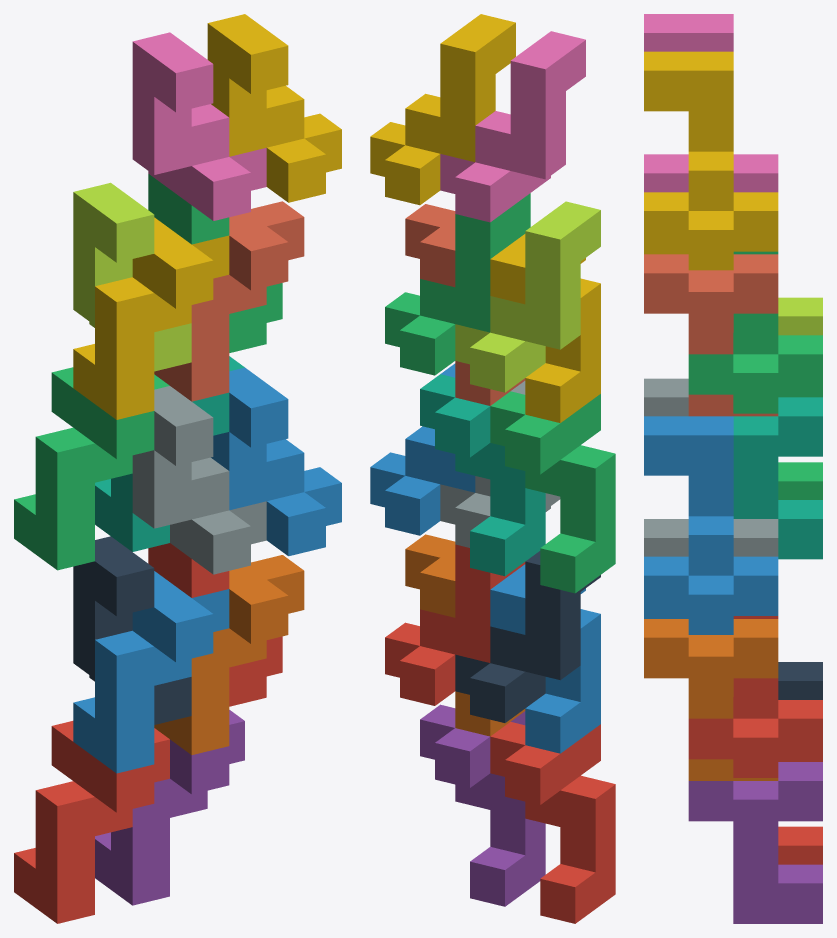
The model's file is tiling.obj.
3 renders of one model, left to right at view 1: azimuth 30°, elevation 25°; view 2: azimuth 150°, elevation 25°; view 3: azimuth 270°, elevation 25°, orthographic. The views are drawn at different scales.
Visible parts, largest first — view 1: copy_2_domain_4, copy_1_domain_4, copy_1_domain_2, copy_1_domain_1, copy_2_domain_8, copy_1_domain_3, copy_2_domain_2, copy_2_domain_6, copy_1_domain_6, copy_1_domain_8, copy_1_domain_5, copy_2_domain_3 (+4 smaller); view 2: copy_1_domain_3, copy_1_domain_1, copy_2_domain_4, copy_2_domain_3, copy_2_domain_8, copy_1_domain_5, copy_1_domain_7, copy_2_domain_7, copy_2_domain_1, copy_2_domain_5, copy_1_domain_2, copy_1_domain_4 (+4 smaller); view 3: copy_2_domain_8, copy_2_domain_6, copy_1_domain_5, copy_1_domain_8, copy_1_domain_6, copy_1_domain_7, copy_2_domain_7, copy_2_domain_5, copy_2_domain_4, copy_2_domain_2, copy_1_domain_1, copy_1_domain_3 (+2 smaller).
Part boxes in pixels (left/top/right/bottom): copy_2_domain_4: left=132, top=32, right=266, bottom=220; copy_1_domain_4: left=73, top=217, right=229, bottom=419; copy_1_domain_2: left=73, top=571, right=229, bottom=773; copy_1_domain_1: left=14, top=721, right=169, bottom=923; copy_2_domain_8: left=207, top=14, right=341, bottom=202; copy_1_domain_3: left=14, top=367, right=169, bottom=570; copy_2_domain_2: left=132, top=386, right=266, bottom=574; copy_2_domain_6: left=211, top=367, right=341, bottom=556; copy_1_domain_6: left=154, top=555, right=304, bottom=754; copy_1_domain_8: left=154, top=201, right=304, bottom=401; copy_1_domain_5: left=95, top=710, right=244, bottom=905; copy_2_domain_3: left=73, top=182, right=191, bottom=371; copy_1_domain_3: left=490, top=391, right=615, bottom=593; copy_1_domain_1: left=490, top=722, right=615, bottom=923; copy_2_domain_4: left=440, top=31, right=585, bottom=222; copy_2_domain_3: left=455, top=201, right=600, bottom=392; copy_2_domain_8: left=370, top=14, right=515, bottom=205; copy_1_domain_5: left=420, top=704, right=545, bottom=906; copy_1_domain_7: left=420, top=374, right=545, bottom=576; copy_2_domain_7: left=385, top=193, right=530, bottom=375; copy_2_domain_1: left=455, top=551, right=600, bottom=722; copy_2_domain_5: left=385, top=544, right=525, bottom=705; copy_1_domain_2: left=490, top=564, right=600, bottom=753; copy_1_domain_4: left=490, top=234, right=600, bottom=422; copy_2_domain_8: left=644, top=51, right=778, bottom=270; copy_2_domain_6: left=644, top=416, right=778, bottom=634; copy_1_domain_5: left=688, top=762, right=822, bottom=923; copy_1_domain_8: left=644, top=254, right=778, bottom=416; copy_1_domain_6: left=644, top=619, right=778, bottom=780; copy_1_domain_7: left=733, top=397, right=822, bottom=559; copy_2_domain_7: left=688, top=251, right=822, bottom=413; copy_2_domain_5: left=688, top=616, right=822, bottom=777; copy_2_domain_4: left=644, top=14, right=778, bottom=192; copy_2_domain_2: left=644, top=378, right=778, bottom=556; copy_1_domain_1: left=778, top=759, right=822, bottom=864; copy_1_domain_3: left=778, top=394, right=822, bottom=499.
Bounding box in the file's own units: 7 × 22 × 4.
